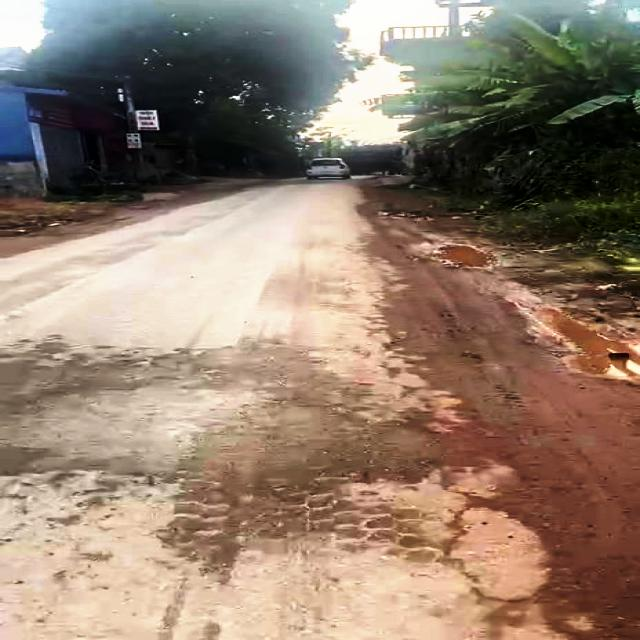pothole: (520, 307, 640, 381), (412, 237, 502, 270)
